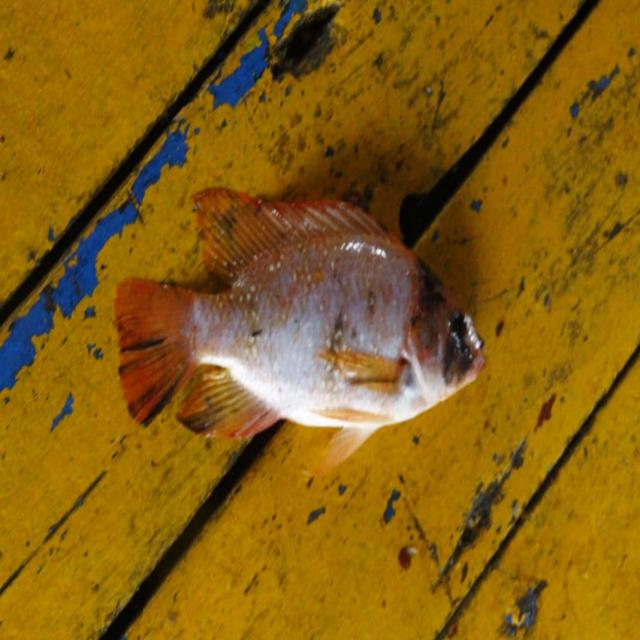ikan: (101, 160, 503, 479)
